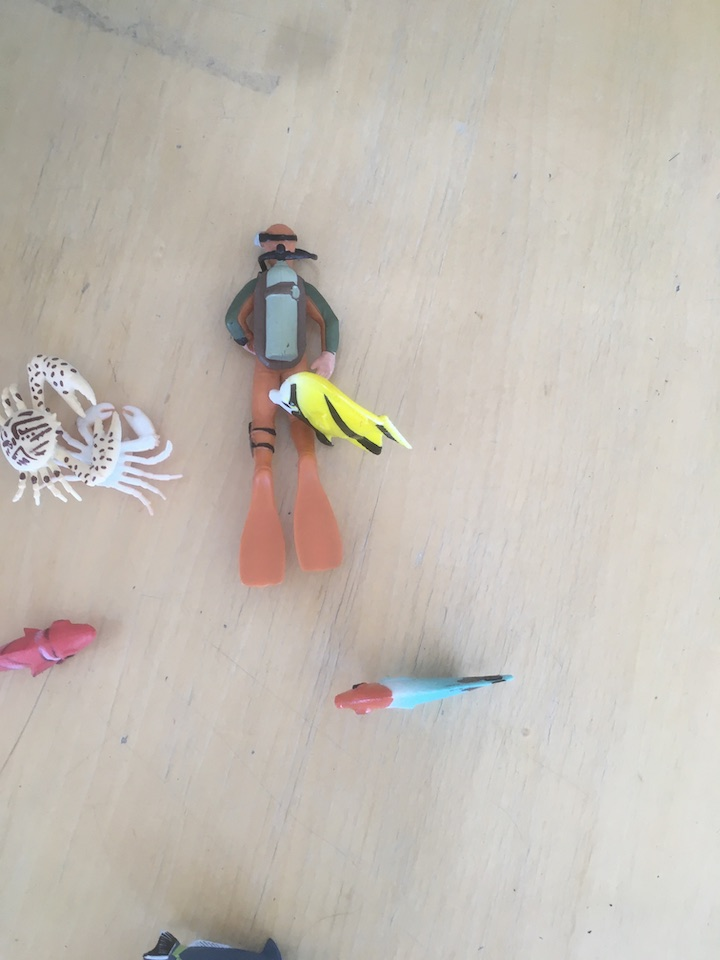crab: (1, 351, 125, 518), (41, 401, 187, 515)
danger: (261, 365, 421, 464)
diver: (223, 217, 366, 595)
fish: (324, 658, 523, 724), (1, 609, 102, 682), (136, 925, 291, 960)
